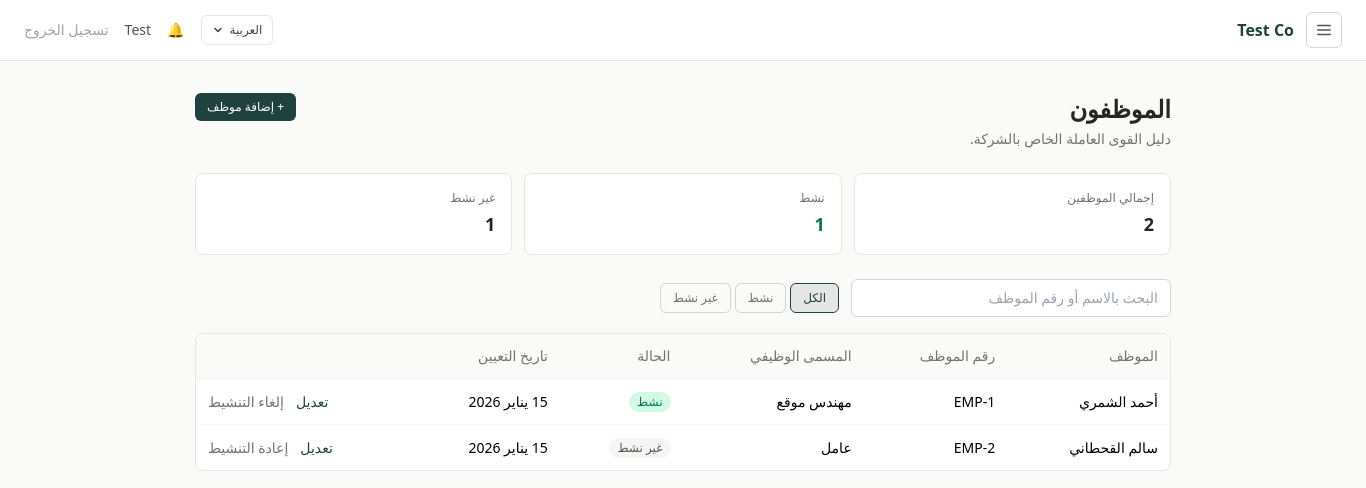
Test: <Employees/> › search filters by name or employee number
Expected: the text "أحمد الشمري" is shown, [1007, 378, 1170, 424]
In the field with placeholder "البحث بالاسم أو رقم الموظف": (1011, 298) [851, 279, 1171, 317], type "EMP-2"
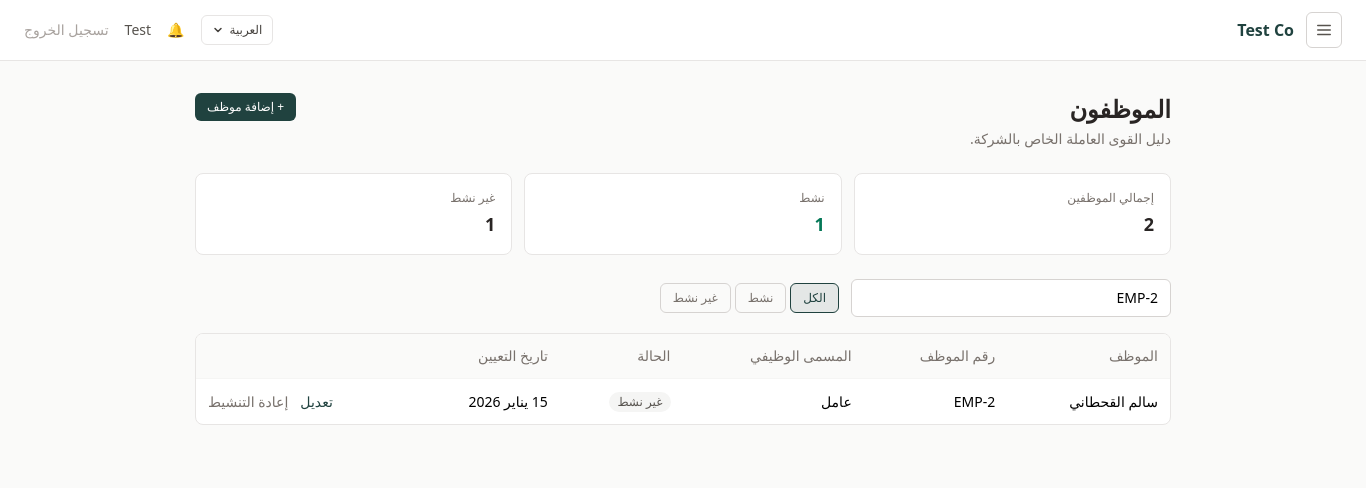
Expected: the text "سالم القحطاني" is shown, [1007, 378, 1170, 424]
Expected: the text "أحمد الشمري" is gone
